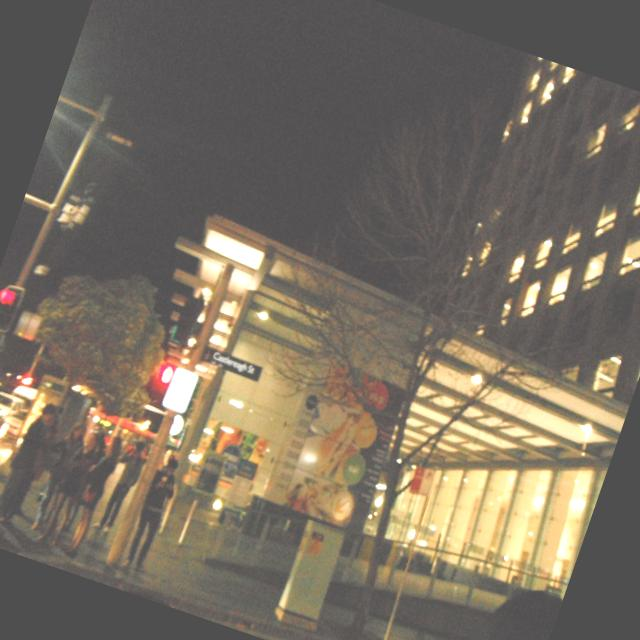Vehicle: (0, 382, 37, 448), (0, 387, 13, 456), (0, 389, 25, 420)
